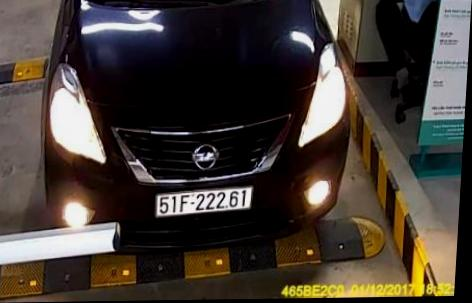License_Plate: (152, 186, 256, 218)
